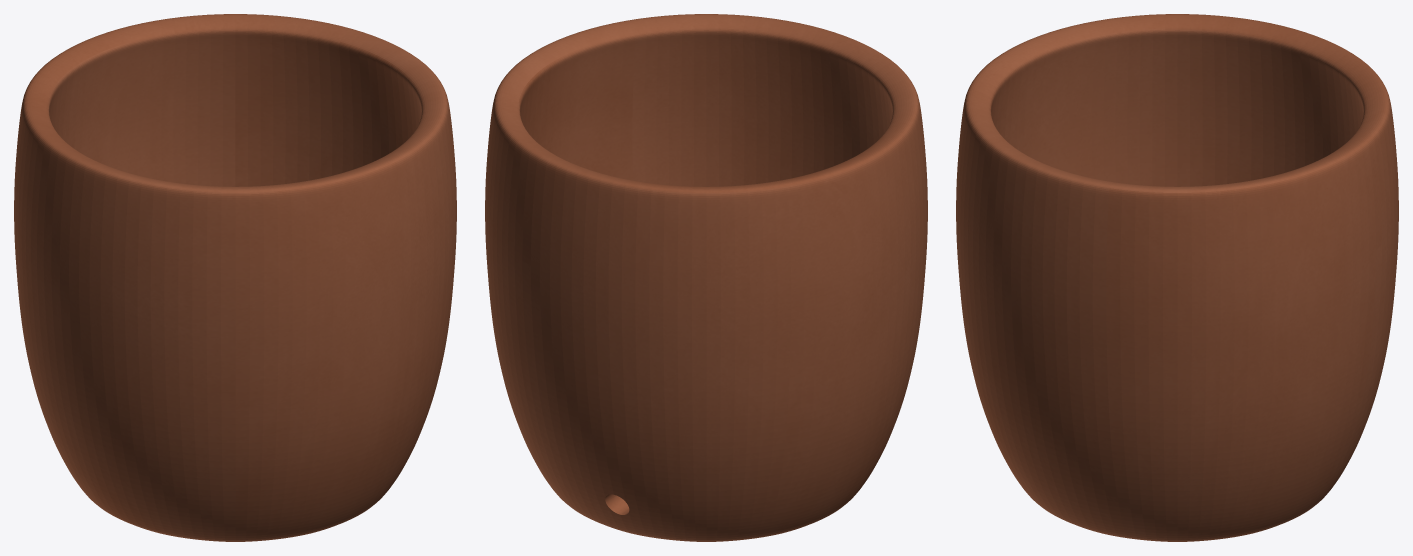
Rendered from 2b6b38ae-edaf-46d5-8aab-1025736c312c.glb.
3 views of the same model, side by side, from view 1: azimuth 30°, elevation 25°; view 2: azimuth 150°, elevation 25°; view 3: azimuth 270°, elevation 25° (orthographic).
Visible parts, largest first — view 1: Cube; view 2: Cube; view 3: Cube.
Boxes of the visible parts, x1,y1,x2,y2 form: Cube: [14, 14, 456, 541]; Cube: [485, 14, 927, 541]; Cube: [956, 14, 1398, 541].
Bounding box in the file's own units: 3.8 × 3.63 × 3.8.
Materials: 1 (1 with a texture image).
